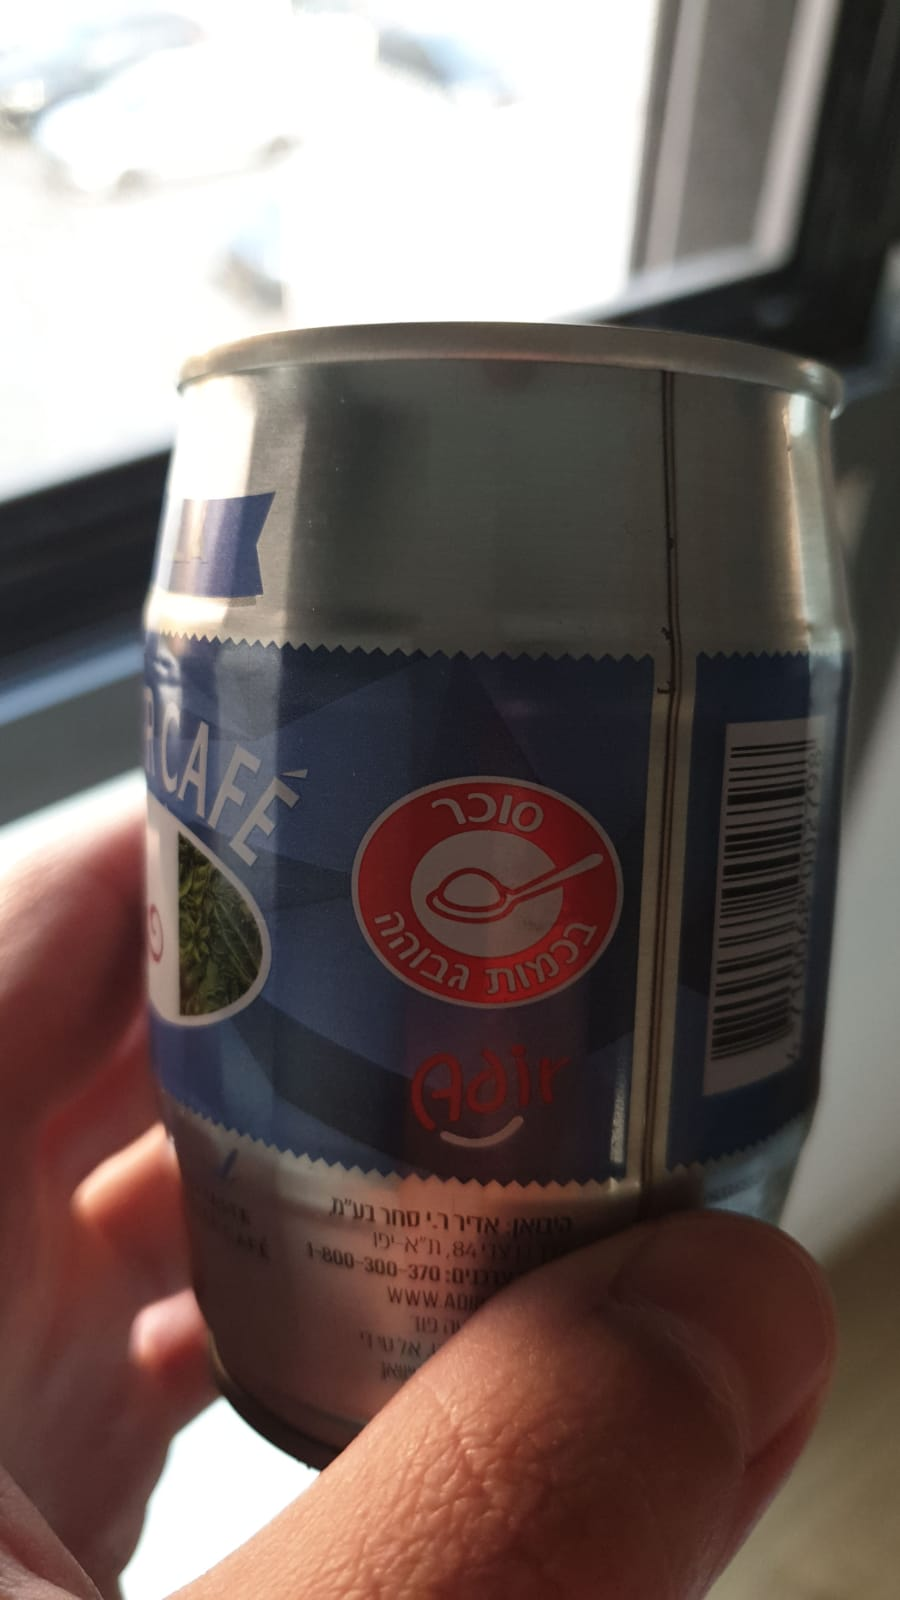sugar: (351, 778, 629, 1005)
